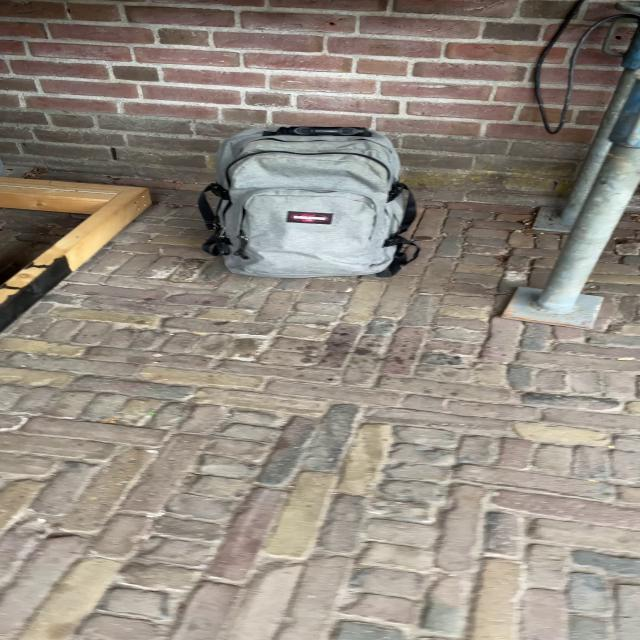backpack: (191, 116, 425, 284)
